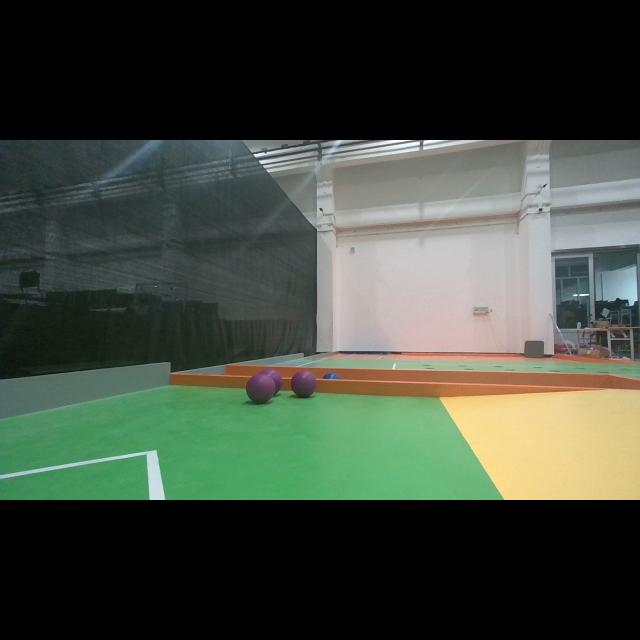P: (247, 374, 276, 404), (291, 370, 317, 398)
